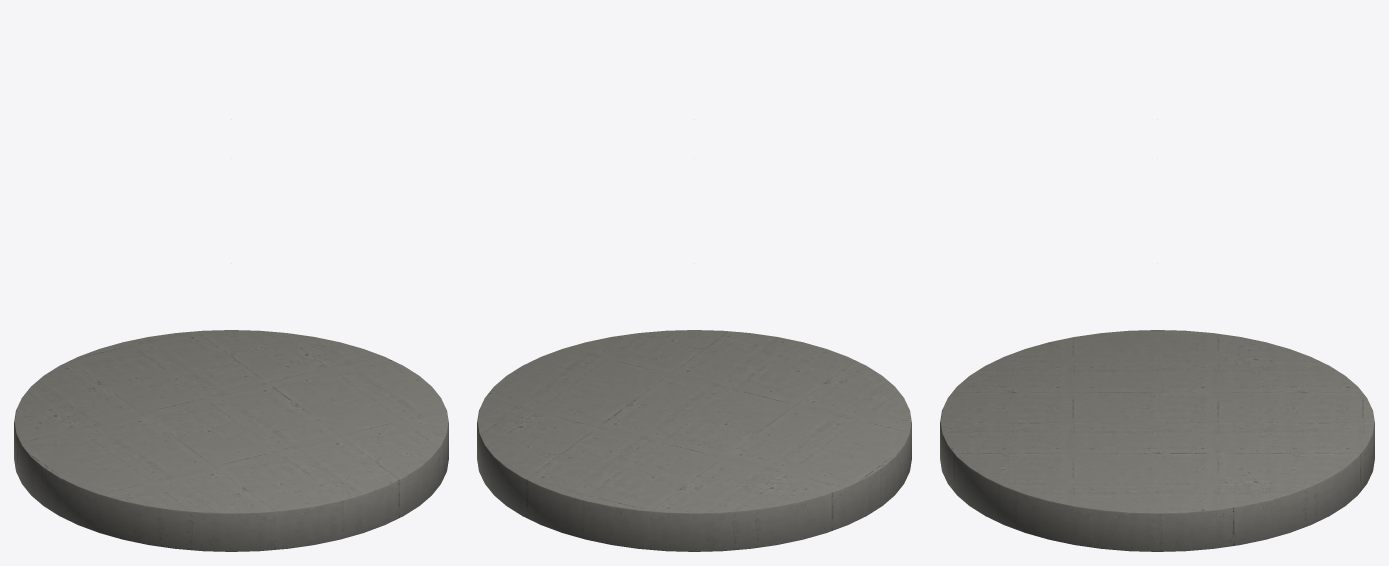
Rendered from HID-DRN-006_anim.glb.
The picture shows the model from 3 angles, left to right: view 1: azimuth 30°, elevation 25°; view 2: azimuth 150°, elevation 25°; view 3: azimuth 270°, elevation 25°; orthographic projection.
Visible parts, largest first — view 1: HID-DRN-006_anim0; view 2: HID-DRN-006_anim0; view 3: HID-DRN-006_anim0.
Boxes of the visible parts, left/top/right/bottom form: HID-DRN-006_anim0: left=14, top=330, right=448, bottom=551; HID-DRN-006_anim0: left=477, top=330, right=911, bottom=551; HID-DRN-006_anim0: left=940, top=330, right=1374, bottom=551.
Bounding box in the file's own units: 1.5 × 1.72 × 1.5.
Materials: 2 (1 with a texture image).
